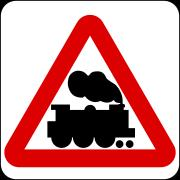Barrier Ahead: (12, 3, 176, 172)
